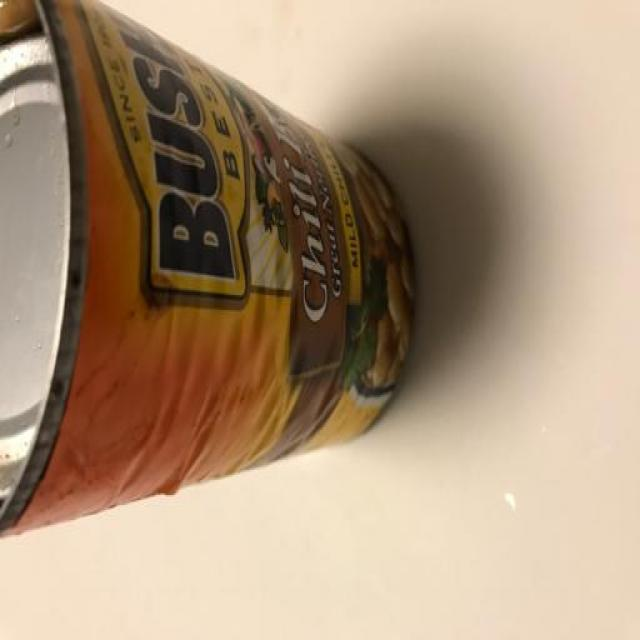metel: (1, 1, 519, 609)
